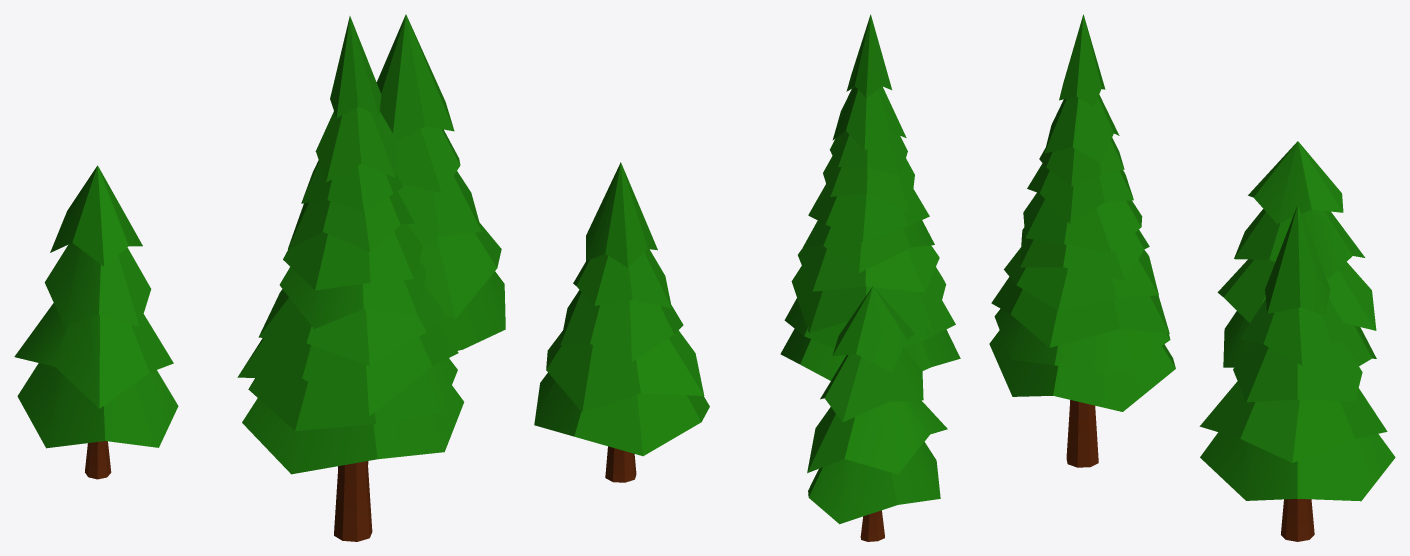
File: Todos.fbx
3 renders of one model, left to right at view 1: azimuth 30°, elevation 25°; view 2: azimuth 150°, elevation 25°; view 3: azimuth 270°, elevation 25°, orthographic. The views are drawn at different scales.
Parts seen in each view (by area): view 1: Ramas, Ramas.002, Ramas.001, Tronco, Tronco.002; view 2: Ramas, Ramas.001, Ramas.002, Tronco.001, Tronco.002; view 3: Ramas, Ramas.001, Ramas.002, Tronco, Tronco.001.
Boxes of the visible parts, x1=… form: Ramas: x1=237, y1=16, x2=463, y2=474; Ramas.002: x1=14, y1=165, x2=178, y2=448; Ramas.001: x1=376, y1=14, x2=505, y2=350; Tronco: x1=334, y1=461, x2=372, y2=541; Tronco.002: x1=85, y1=441, x2=111, y2=479; Ramas: x1=780, y1=14, x2=960, y2=380; Ramas.001: x1=534, y1=162, x2=709, y2=456; Ramas.002: x1=807, y1=286, x2=947, y2=524; Tronco.001: x1=605, y1=446, x2=636, y2=482; Tronco.002: x1=860, y1=510, x2=884, y2=541; Ramas: x1=989, y1=14, x2=1175, y2=411; Ramas.001: x1=1199, y1=205, x2=1395, y2=501; Ramas.002: x1=1217, y1=141, x2=1376, y2=367; Tronco: x1=1066, y1=400, x2=1098, y2=467; Tronco.001: x1=1281, y1=499, x2=1314, y2=541.
Size of the model in its own units: 75.7 by 79.13 by 65.39.
